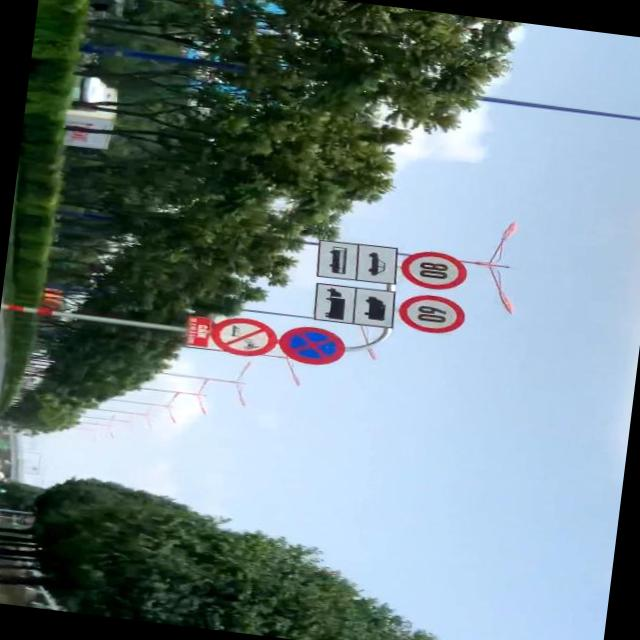P-104: (209, 312, 277, 360)
P-127: (397, 247, 470, 292), (398, 292, 468, 336)
P-130: (276, 322, 346, 368)
